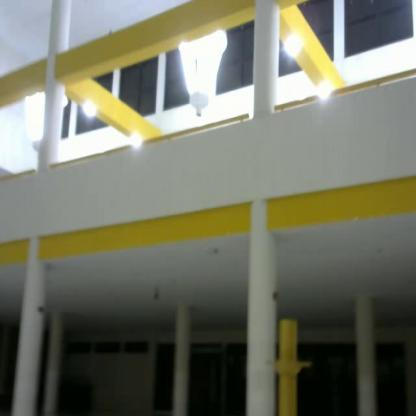pole: (268, 315, 314, 416)
